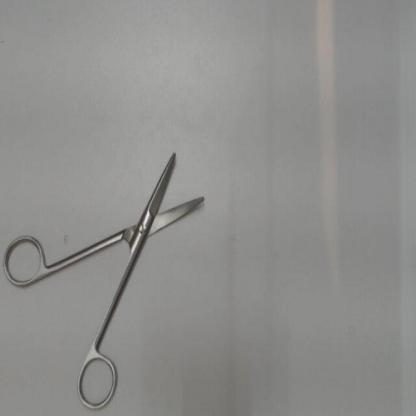Curved Mayo Scissors: (2, 149, 212, 413)
